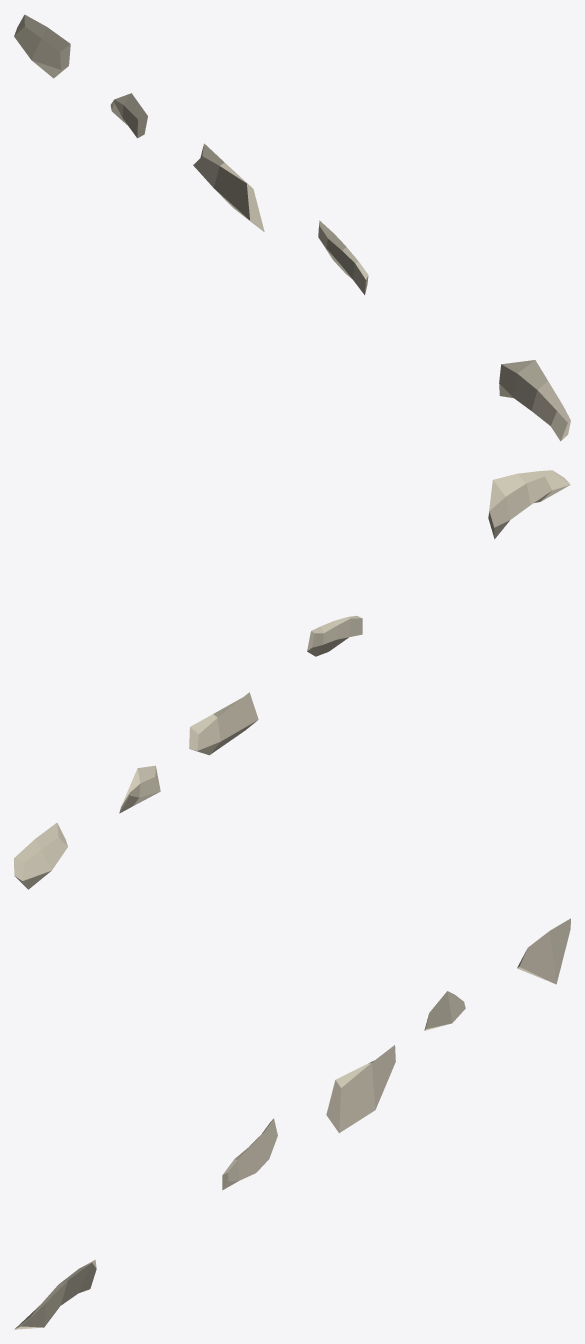
The model's file is hot_sauce.fbx.
3 views of the same model, one above another, from view 1: azimuth 30°, elevation 25°; view 2: azimuth 150°, elevation 25°; view 3: azimuth 330°, elevation 25° (orthographic).
Visible parts, largest first — view 1: Sauce; view 2: Sauce; view 3: Sauce.
Boxes of the visible parts, x1,y1,x2,y2 form: Sauce: (14,14,570,441); Sauce: (14,470,570,889); Sauce: (14,918,570,1329).
Bounding box in the file's own units: 1.58 × 3.4 × 51.01.
